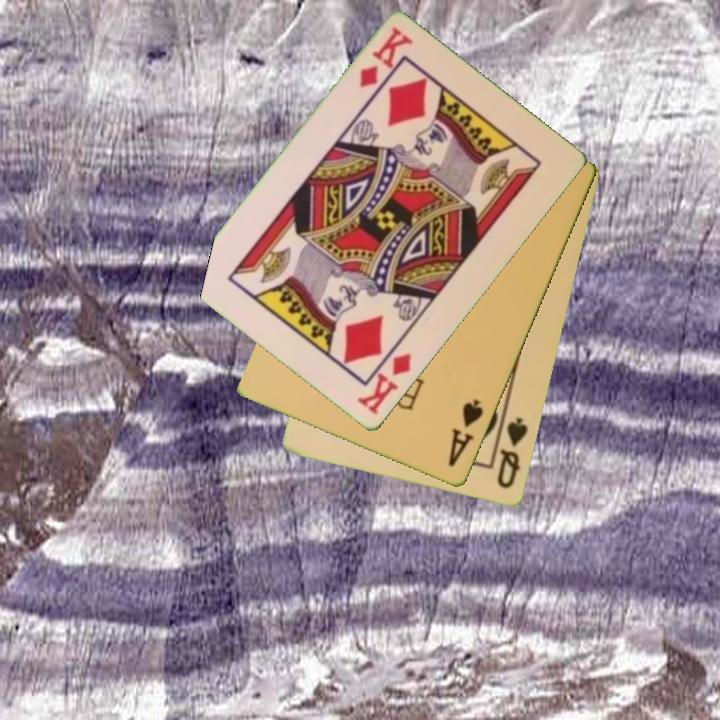As: (444, 396, 487, 471)
Kd: (354, 339, 415, 418), (356, 23, 416, 92)
Qs: (494, 414, 531, 492)
